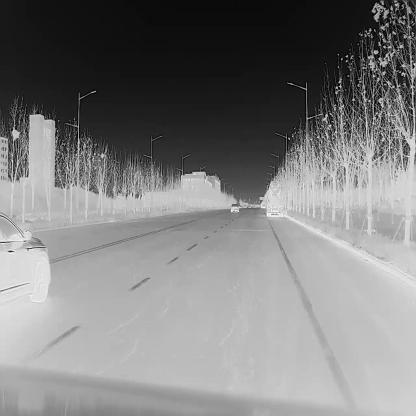car: (0, 210, 51, 307), (230, 202, 239, 212), (262, 203, 266, 209), (248, 204, 252, 208), (252, 204, 256, 208), (243, 204, 246, 209), (239, 204, 242, 209)
truck: (264, 180, 284, 216)
